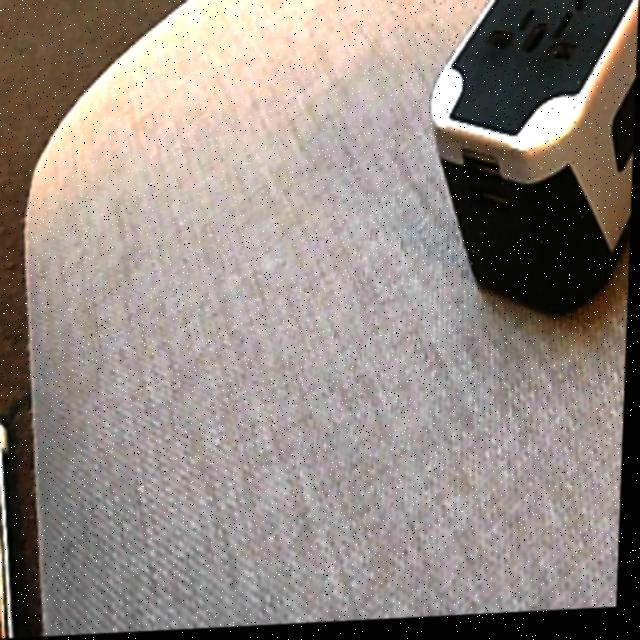adapter: (423, 0, 640, 325)
